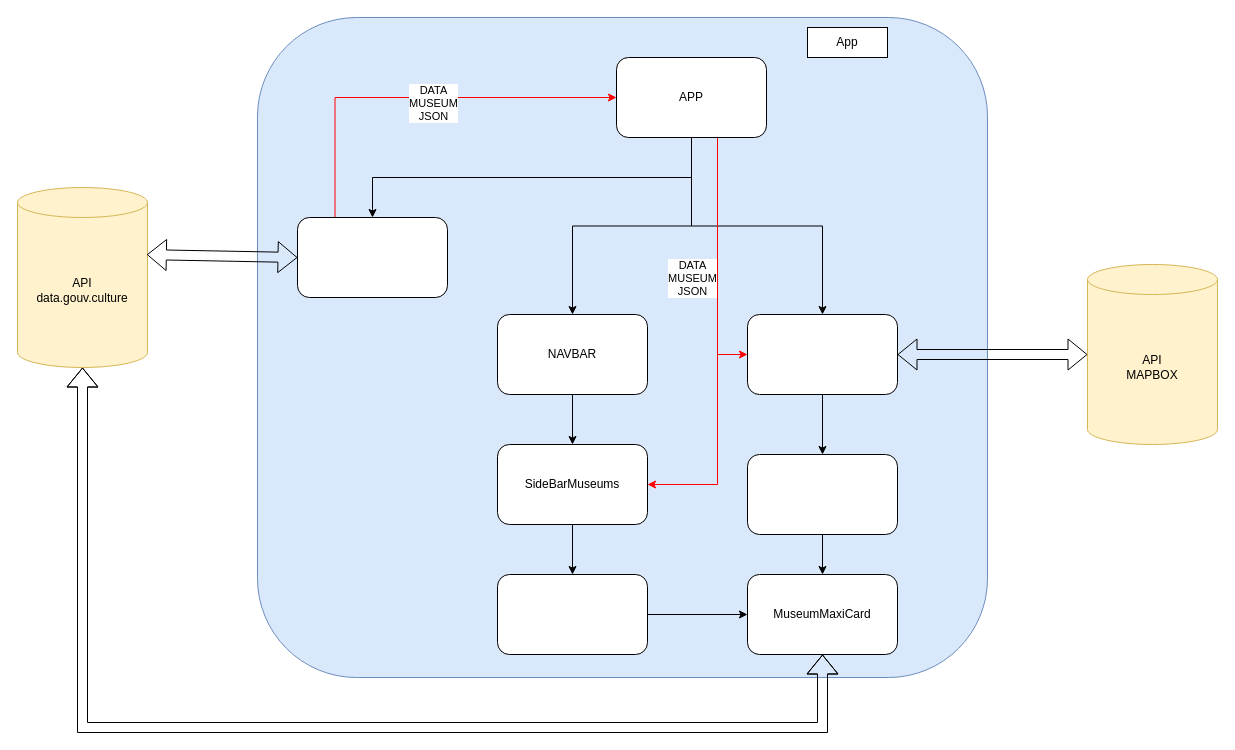
The diagram is 1235 pixels wide and 750 high, and some of its shapes have lost their labels. The shapes that lost their labels are listed below. From the top down, each one's centre as x and y in pixels, then its label:
[372,257]: SearchBar
[822,354]: MAPBOX
[822,494]: MuseumMinicard
[572,614]: MuseumListCard
